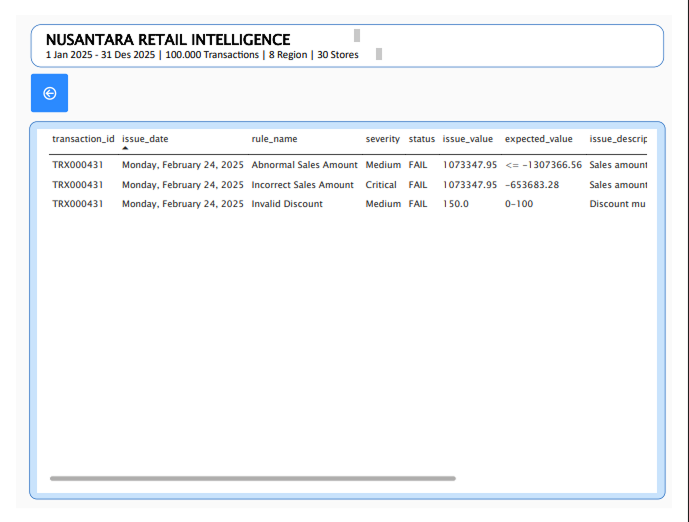

The page's visual inventory and layout, read from the dashboard file:
{"tool":"powerbi","page":{"name":"Issue Detail Drillthrough","canvas":[960,720],"ordinal":4},"visuals":[{"type":"textbox","box":[42.6,47.9,492.7,18.8],"z":0,"group":"g2"},{"type":"shape","box":[18.9,154.5,931.8,553.6],"z":0,"group":"g1"},{"type":"group","id":"g1","title":"Navbar and Layout","box":[18.9,13,931.8,695.2],"z":500},{"type":"shape","box":[21,13,928,63],"z":1000,"group":"g1"},{"type":"textbox","box":[42.6,20.4,460.3,23.9],"z":1000,"group":"g2"},{"type":"tableEx","fields":{"Values":["quality dq_issue_detail.transaction_id","quality dq_issue_detail.issue_date","quality dim_dq_rule.rule_name","quality dim_dq_rule.severity","quality dq_issue_detail.status","quality dq_issue_detail.issue_value","quality dq_issue_detail.expected_value","quality dq_issue_detail.issue_description"]},"box":[31.2,166.2,907.5,531.2],"z":1000},{"type":"actionButton","box":[20.9,85.5,55.5,56.4],"z":2000},{"type":"group","id":"g2","title":"Group 1","box":[42.6,20.4,492.9,46.4],"z":3000,"group":"g1"}]}

Visuals, with their boxes in screenshot pixels (x1, y1, x2, y2), scaled from the page's 960x720 canvas onto the 689x522 screenshot:
textbox: pyautogui.locateOnScreen(31, 35, 384, 48)
shape: pyautogui.locateOnScreen(14, 112, 682, 513)
"Navbar and Layout" group: pyautogui.locateOnScreen(14, 9, 682, 513)
shape: pyautogui.locateOnScreen(15, 9, 681, 55)
textbox: pyautogui.locateOnScreen(31, 15, 361, 32)
tableEx - quality dq_issue_detail.transaction_id x quality dq_issue_detail.issue_date: pyautogui.locateOnScreen(22, 120, 674, 506)
actionButton: pyautogui.locateOnScreen(15, 62, 55, 103)
"Group 1" group: pyautogui.locateOnScreen(31, 15, 384, 48)
